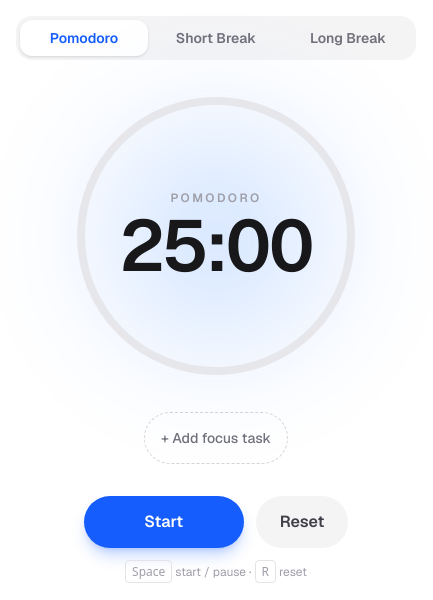
Timer component › timer type buttons switch between work/shortBreak/longBreak
Expected: the text "25:00" is shown, [120,210,312,282]
Note: Switch to short break (5 min)
Click the button "Short Break": (216, 38) [152,20,280,56]
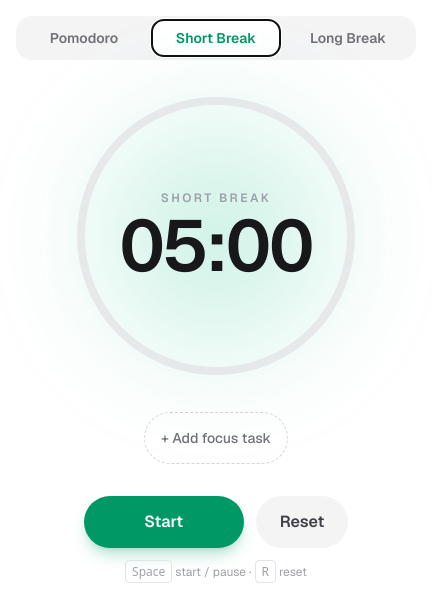
Expected: the text "05:00" is shown, [120,210,312,282]
Note: Switch to long break (15 min)
Click the button "Long Break": (348, 38) [284,20,412,56]
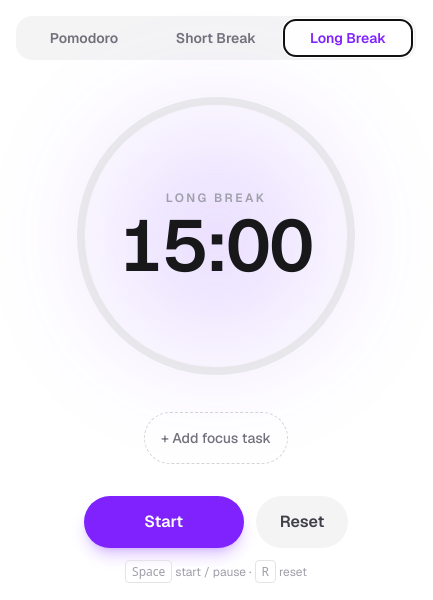
Expected: the text "15:00" is shown, [120,210,312,282]
